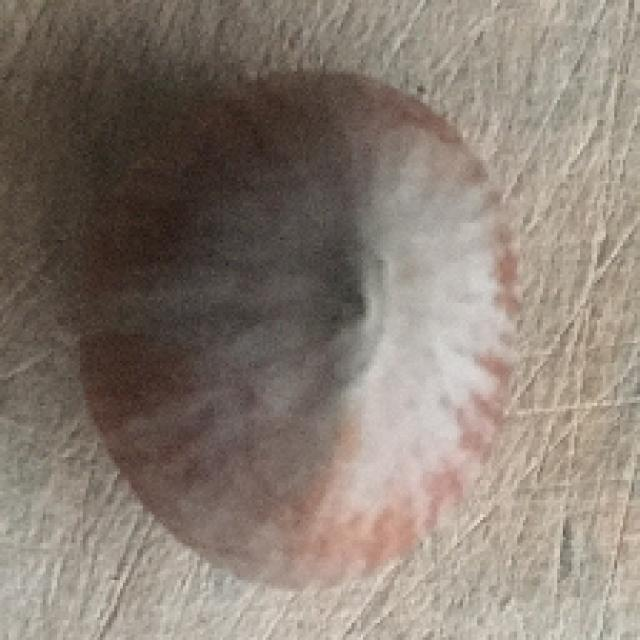QualityHazelnut: (71, 69, 521, 585)
